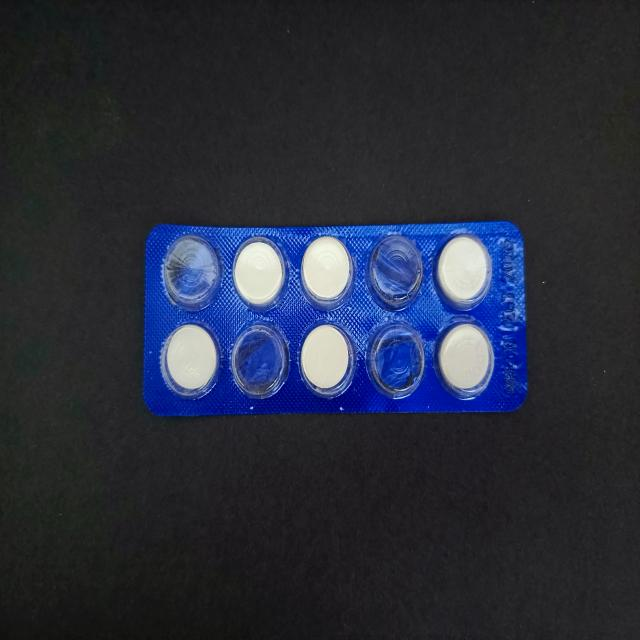defect: (226, 315, 292, 401), (363, 317, 427, 401), (160, 231, 223, 314), (364, 229, 424, 315)
